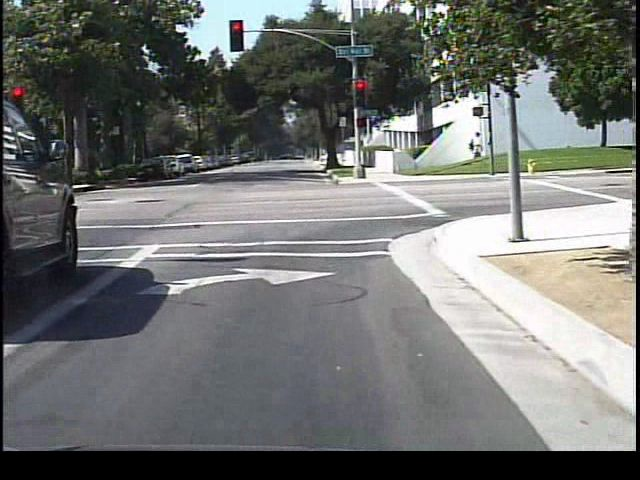person: (463, 128, 486, 172)
